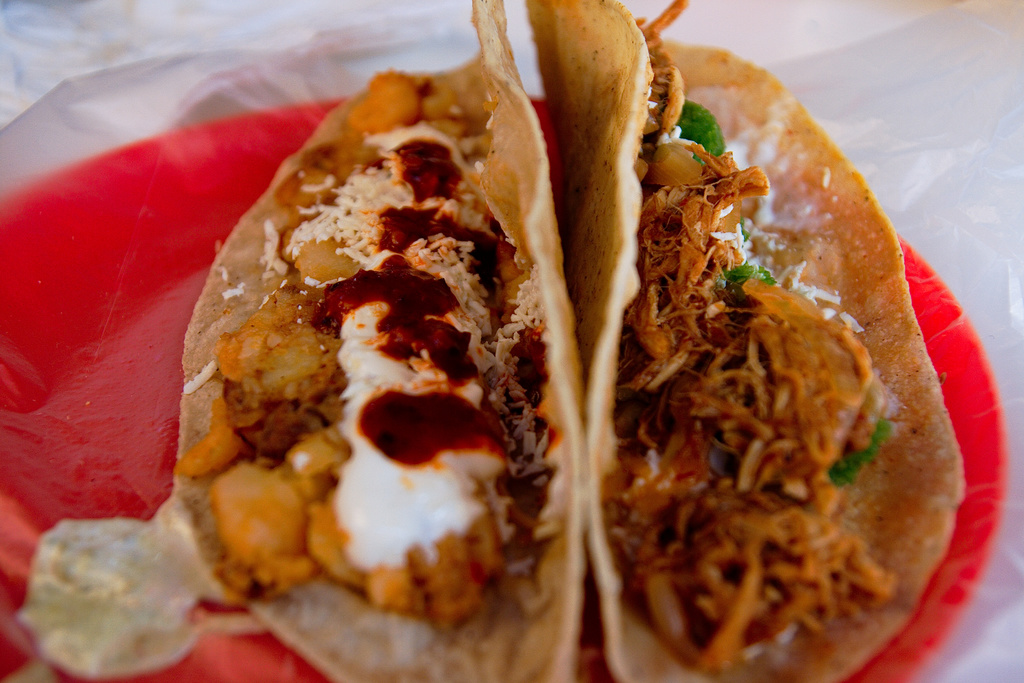taco: (168, 0, 585, 682)
